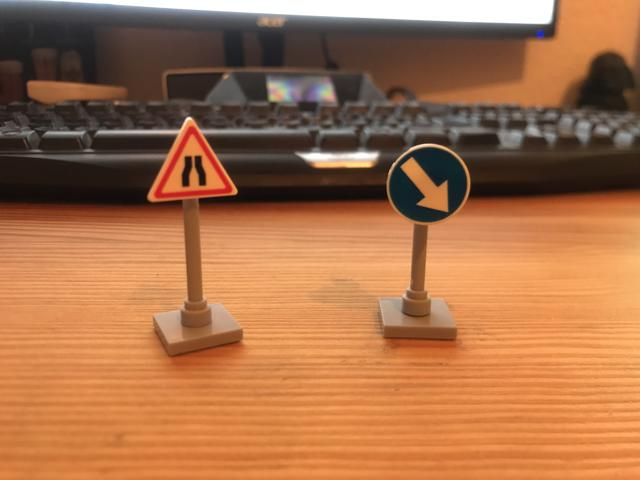rechts halten: (385, 144, 471, 223)
verengte fahrbahn: (145, 117, 241, 203)
